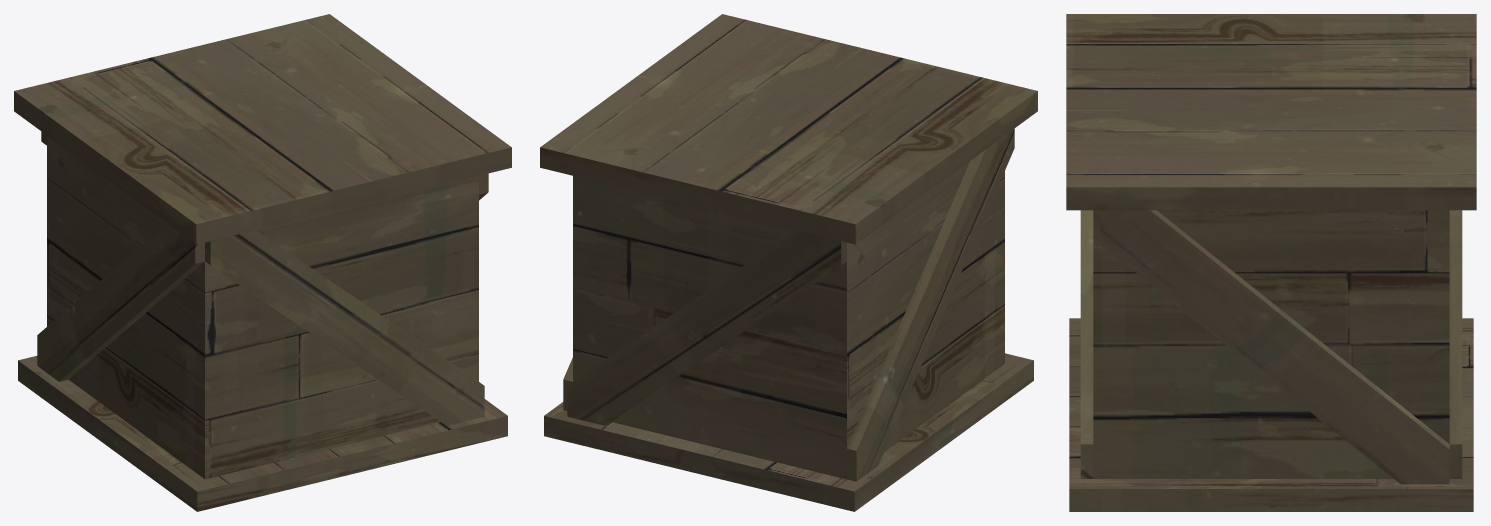
The model's file is WoodCrateModel.fbx.
3 renders of one model, left to right at view 1: azimuth 30°, elevation 25°; view 2: azimuth 150°, elevation 25°; view 3: azimuth 270°, elevation 25°, orthographic. The views are drawn at different scales.
Visible parts, largest first — view 1: Cube.001, Cube.003, Cube.002; view 2: Cube.001, Cube.003, Cube.002; view 3: Cube.001, Cube.003, Cube.002.
Boxes of the visible parts, left/top/right/bottom form: Cube.001: left=37, top=131, right=488, bottom=479; Cube.003: left=14, top=14, right=511, bottom=244; Cube.002: left=18, top=356, right=507, bottom=511; Cube.001: left=563, top=128, right=1014, bottom=481; Cube.003: left=540, top=14, right=1037, bottom=244; Cube.002: left=544, top=353, right=1033, bottom=511; Cube.001: left=1080, top=210, right=1462, bottom=484; Cube.003: left=1066, top=14, right=1476, bottom=210; Cube.002: left=1069, top=318, right=1473, bottom=511.
Size of the model in its own units: 230 by 202 by 230.
1 material, 1 textured.
